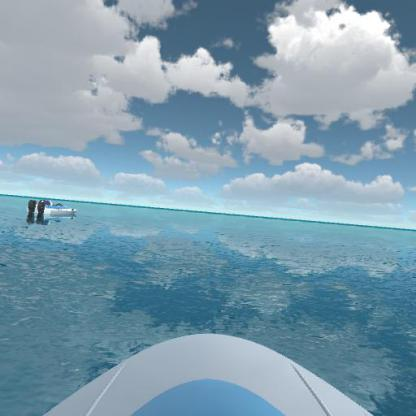usv1: (22, 189, 84, 224)
